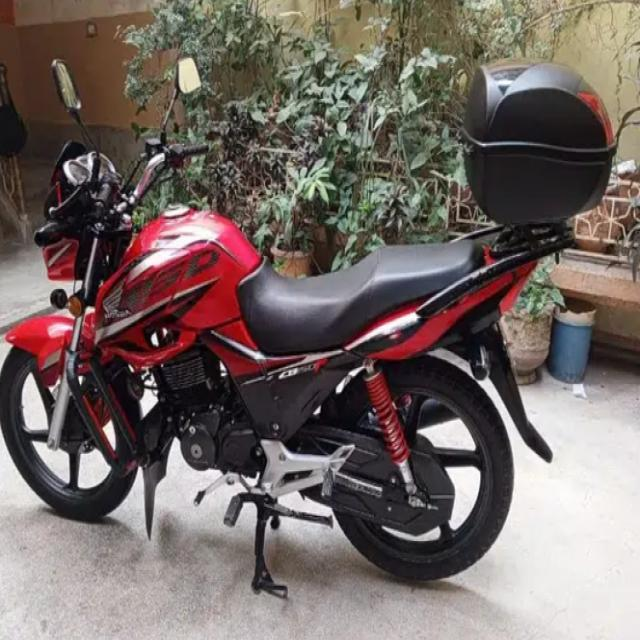Bike: (9, 128, 574, 568)
